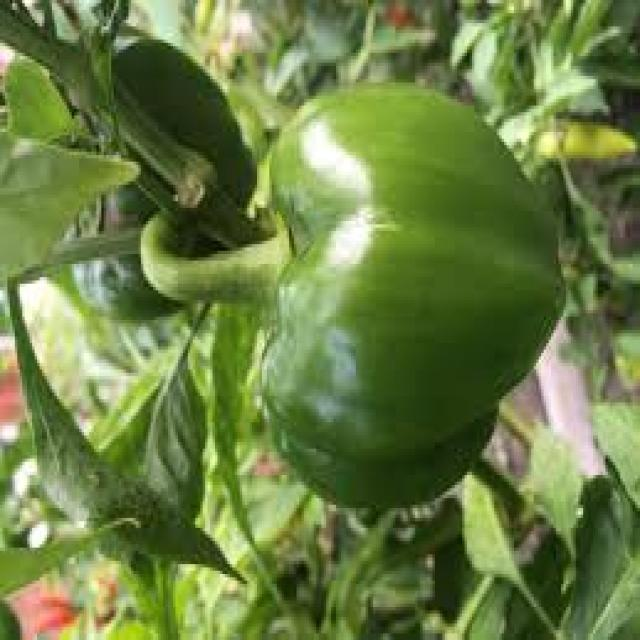bell_pepper: (221, 81, 573, 530)
